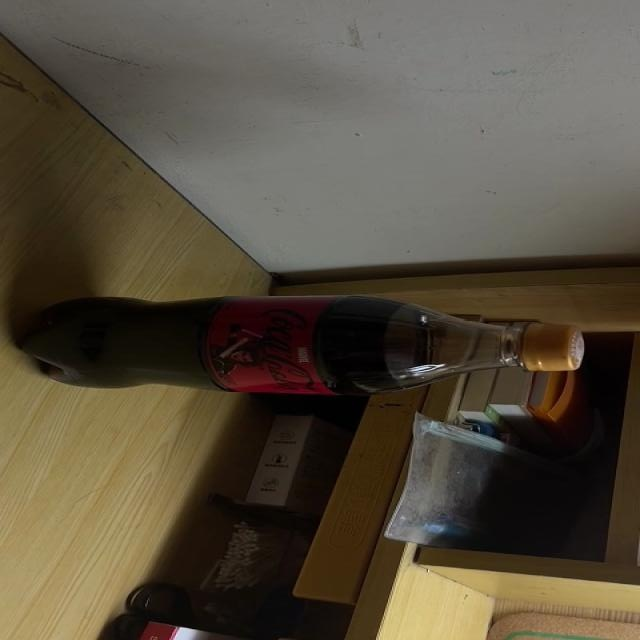Coca-Cola: (18, 299, 582, 394)
